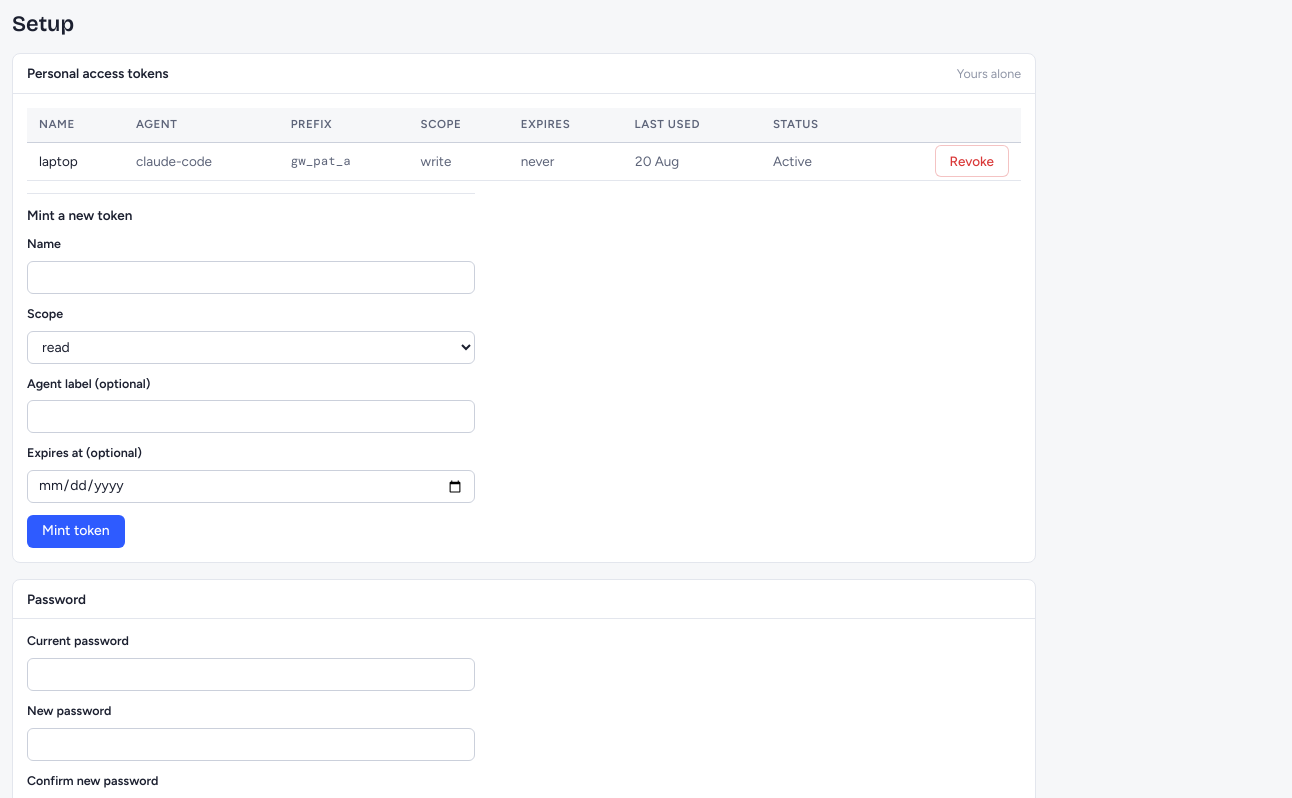
Test case: SetupPage › every mutation has an error surface › revoking an access token
What coordinates should you click on to do the following:
click the button "Revoke"
I would click on:
 (972, 161)
Its box is [934,145,1009,177].
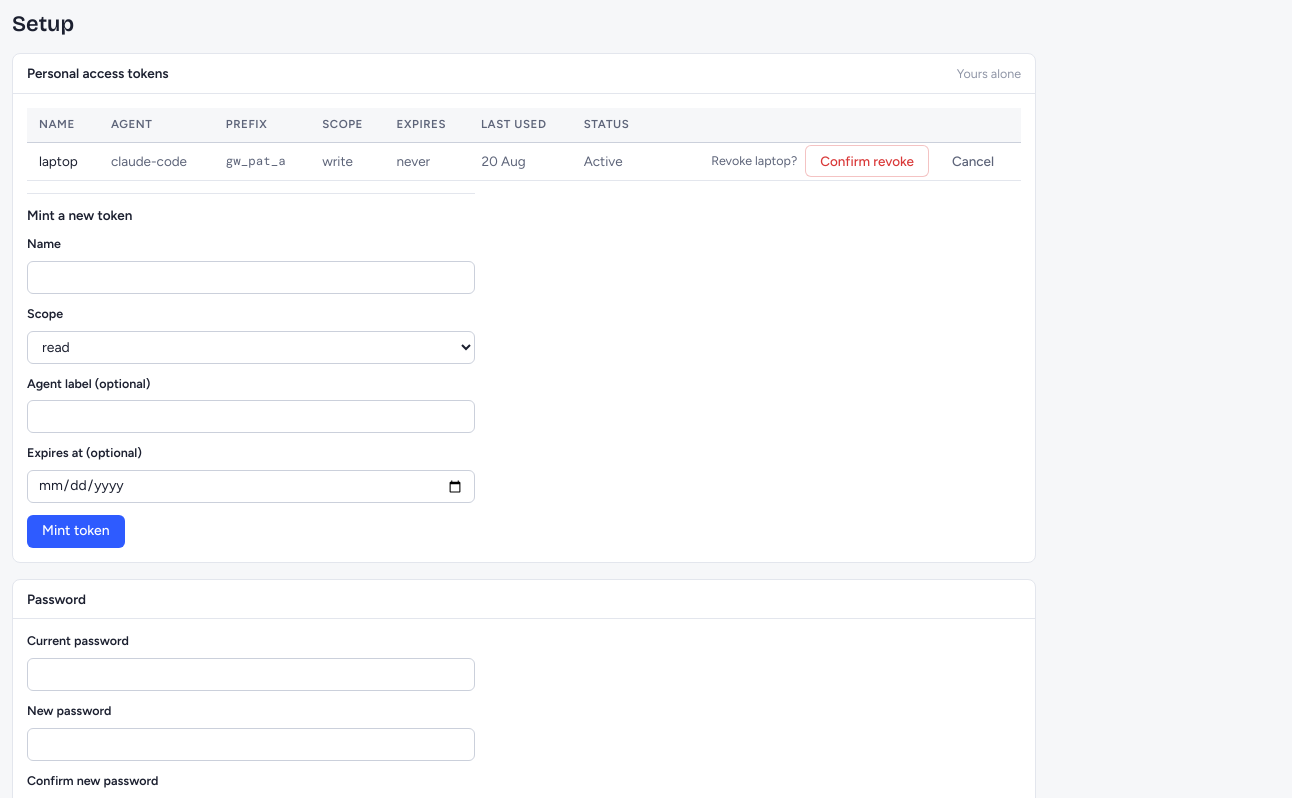
What coordinates should you click on to do the following:
click the button "Confirm revoke"
I would click on:
 (867, 161)
Its box is [805,145,929,177].
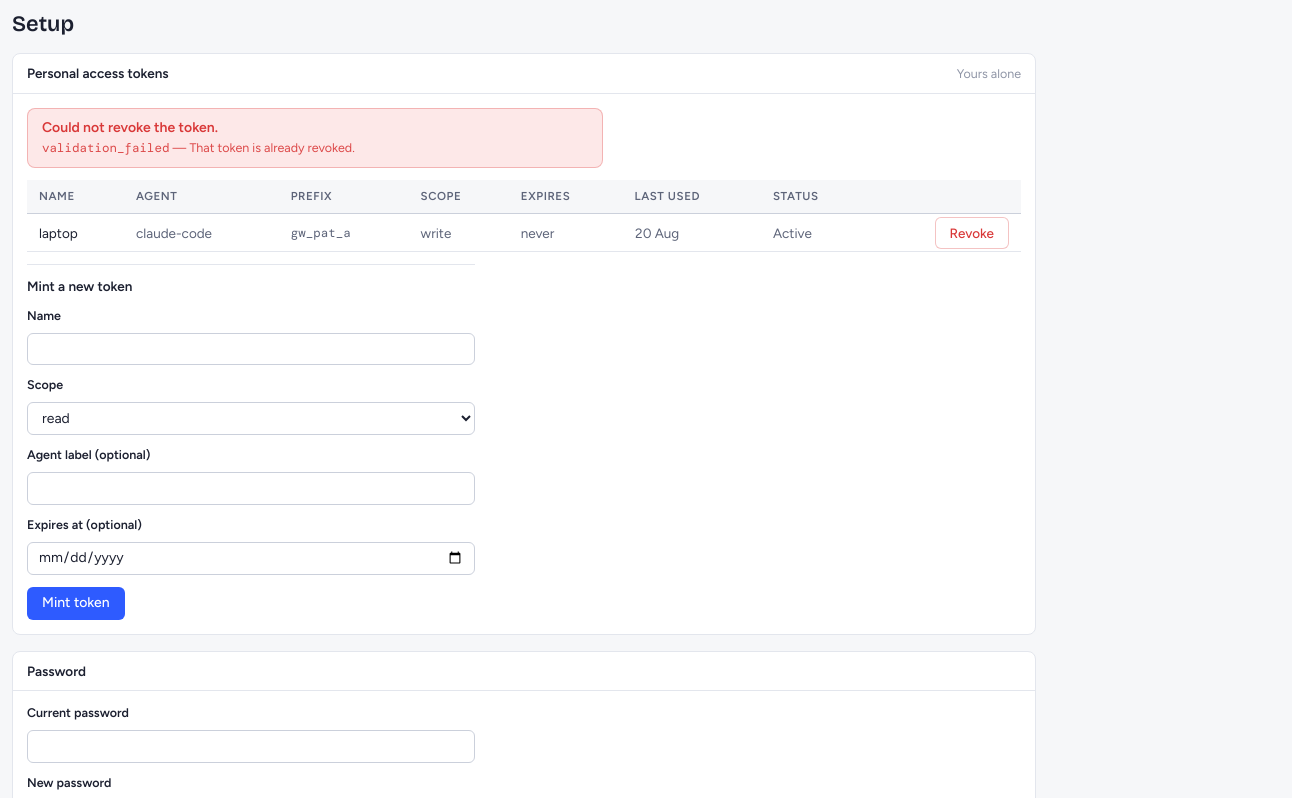
Result: the text "Could not revoke the token." is shown at [42,119,218,136]
Result: the message shows "validation_failed" at [42,140,170,156]
Result: the message shows "That token is already revoked." at [190,140,355,155]
